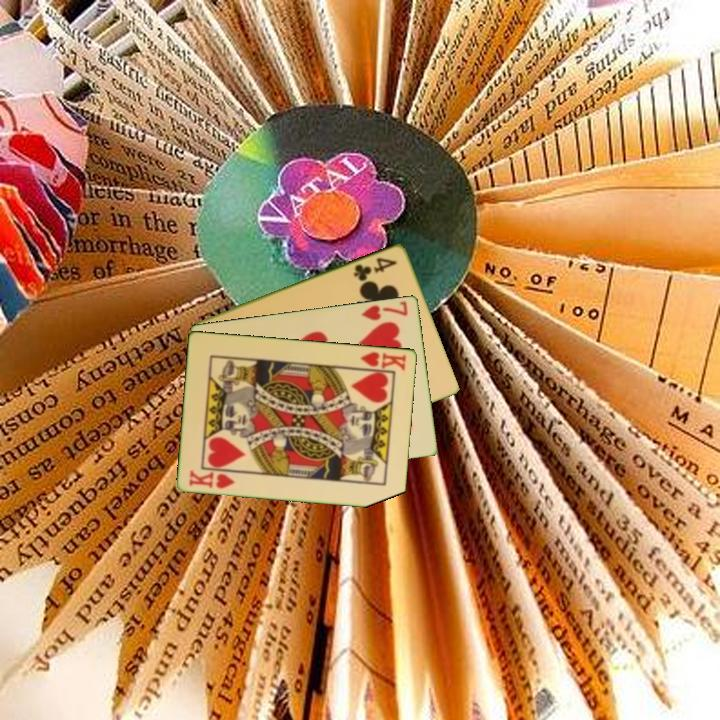4c: (350, 253, 400, 284)
7h: (358, 297, 411, 323)
Kh: (353, 348, 409, 373), (186, 466, 237, 491)
